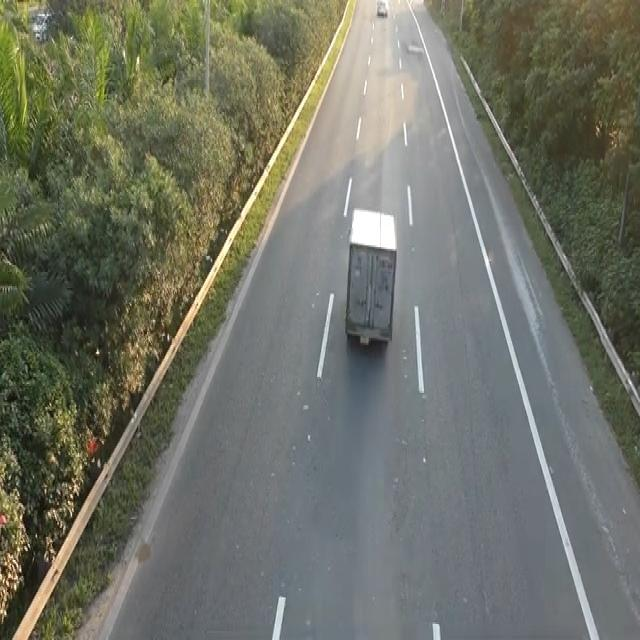minivan: (342, 203, 399, 350)
